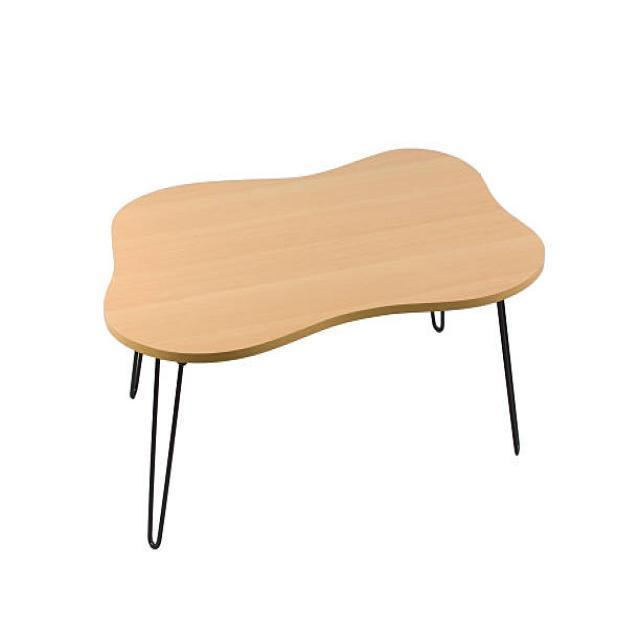table: (102, 145, 545, 548)
